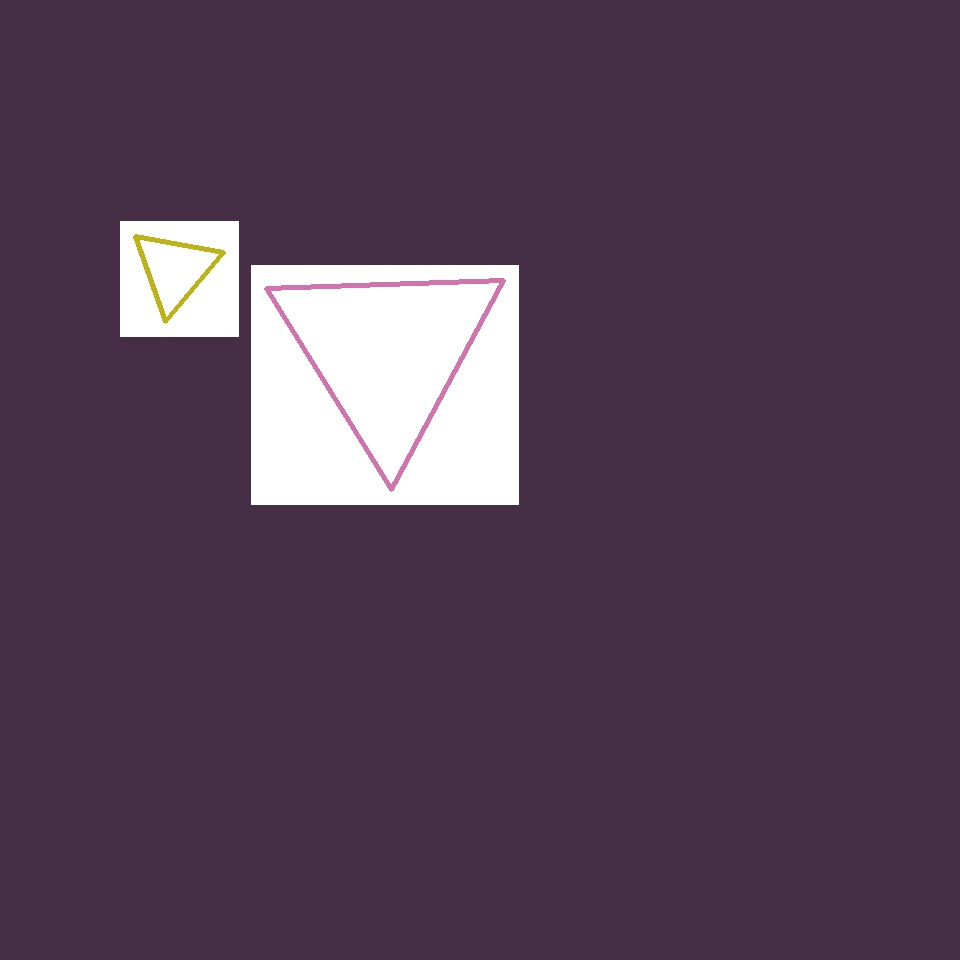circle: (268, 249, 506, 458), (632, 772, 790, 918), (215, 362, 367, 494), (230, 69, 354, 205), (131, 228, 219, 312)
square: (154, 374, 392, 614)
